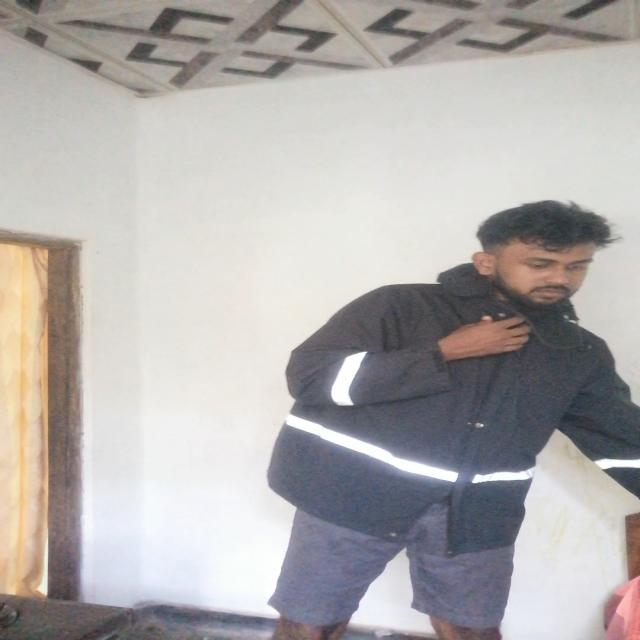Jacket_Wearer: (272, 264, 640, 558)
Person: (266, 201, 640, 640)
